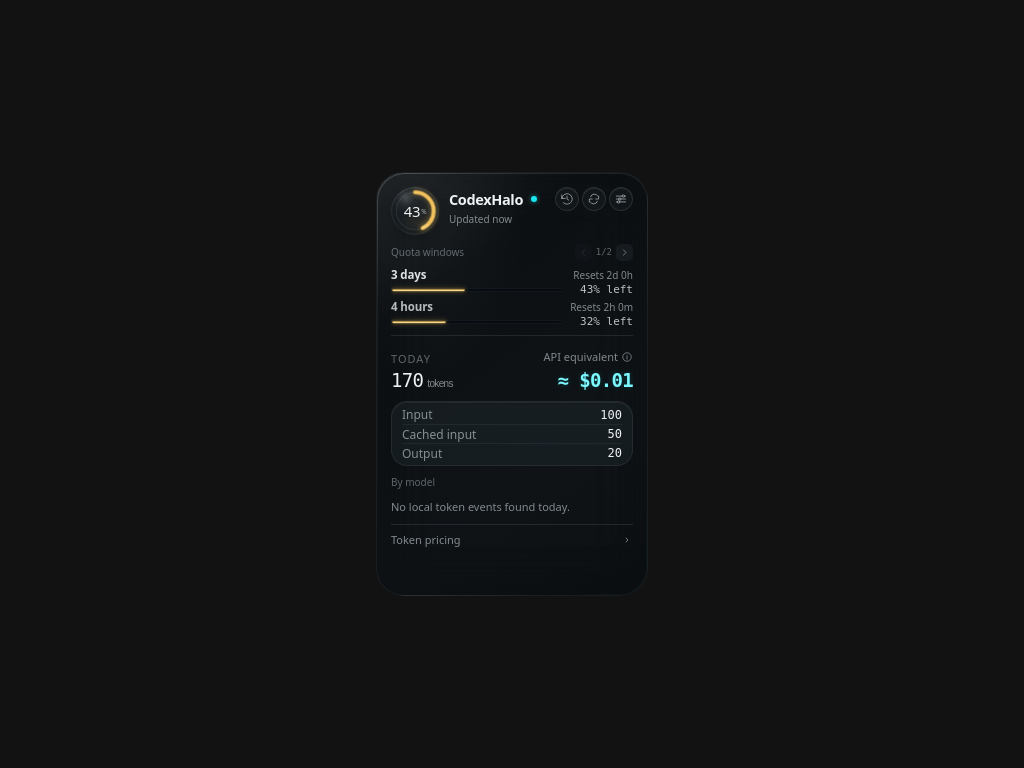
Test case: ExpandedPanel quota windows › keeps every returned future window available in the fixed panel
Click the button named "Next quota windows": [624, 252] box [616,244,633,260]
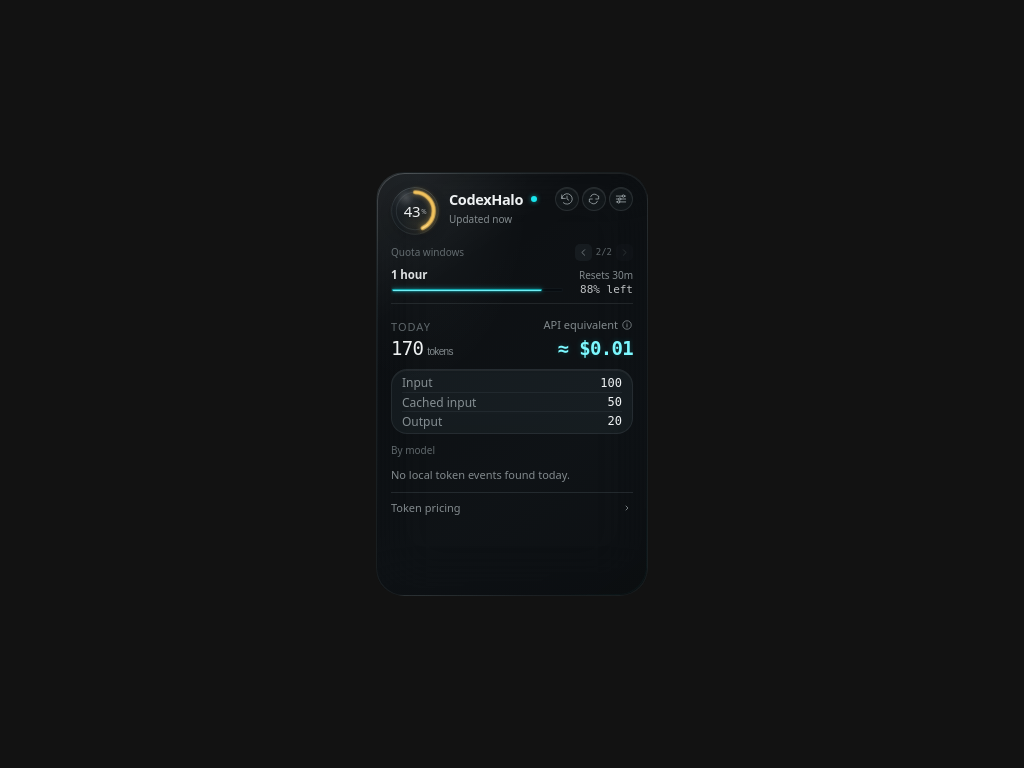
Result: the element named "1 hour quota" is shown at [391,267,633,295]
